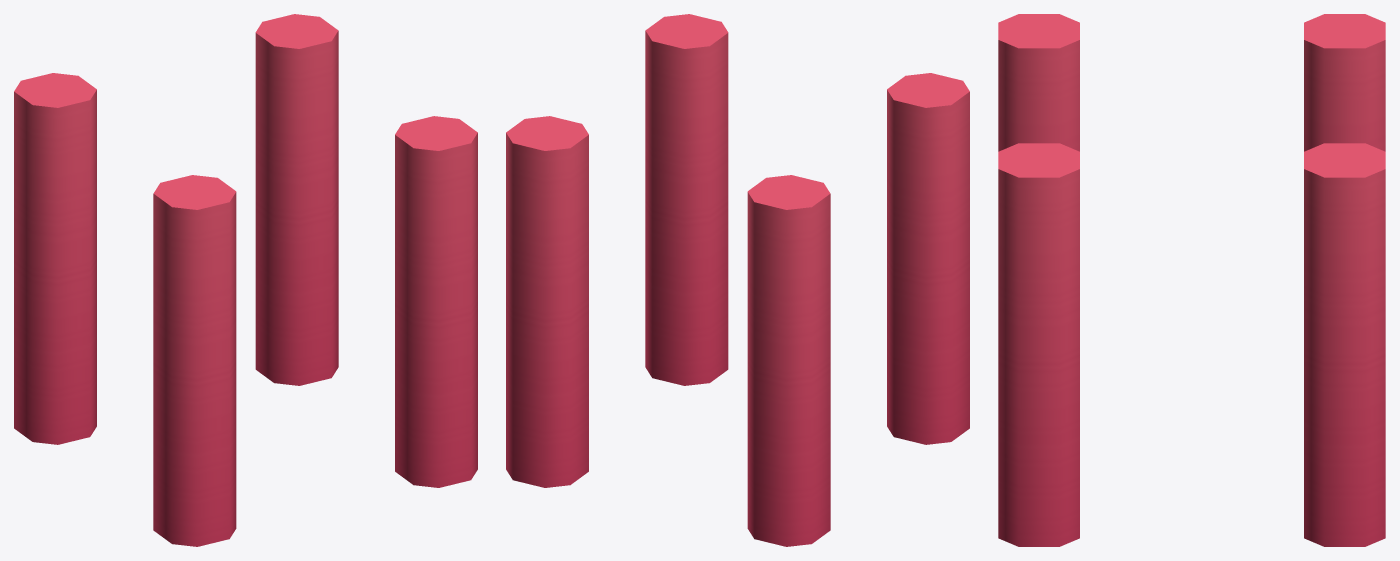
File: supports.fbx
The picture shows the model from 3 angles, left to right: view 1: azimuth 30°, elevation 25°; view 2: azimuth 150°, elevation 25°; view 3: azimuth 270°, elevation 25°; orthographic projection. The views are drawn at different scales.
Parts seen in each view (by area): view 1: supports; view 2: supports; view 3: supports.
Part boxes in pixels (x1,y1,x2,y2): supports: (14,14,477,546); supports: (506,14,969,546); supports: (998,14,1385,546).
Bounding box in the file's own units: 95 × 100 × 95.
1 material, 1 textured.
